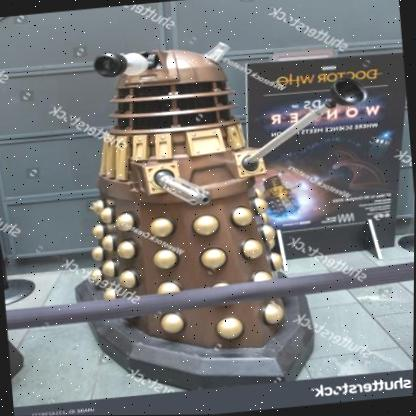dalek: (26, 0, 396, 404)
